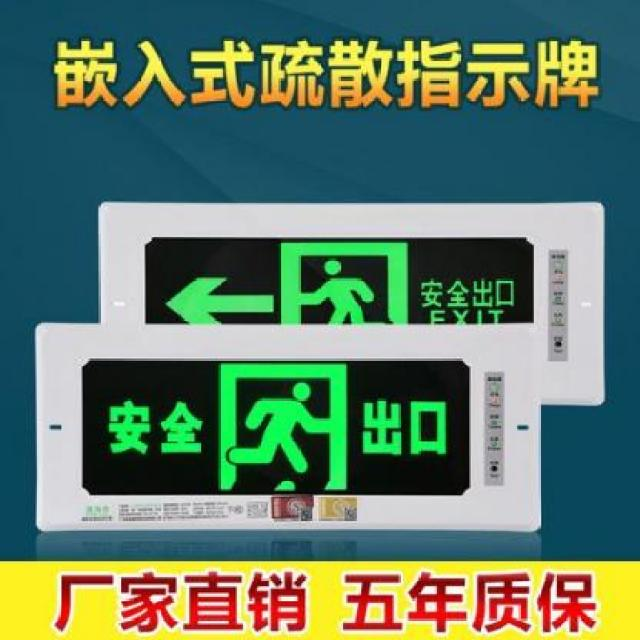exit_sign: (135, 241, 543, 377), (77, 357, 466, 495)
